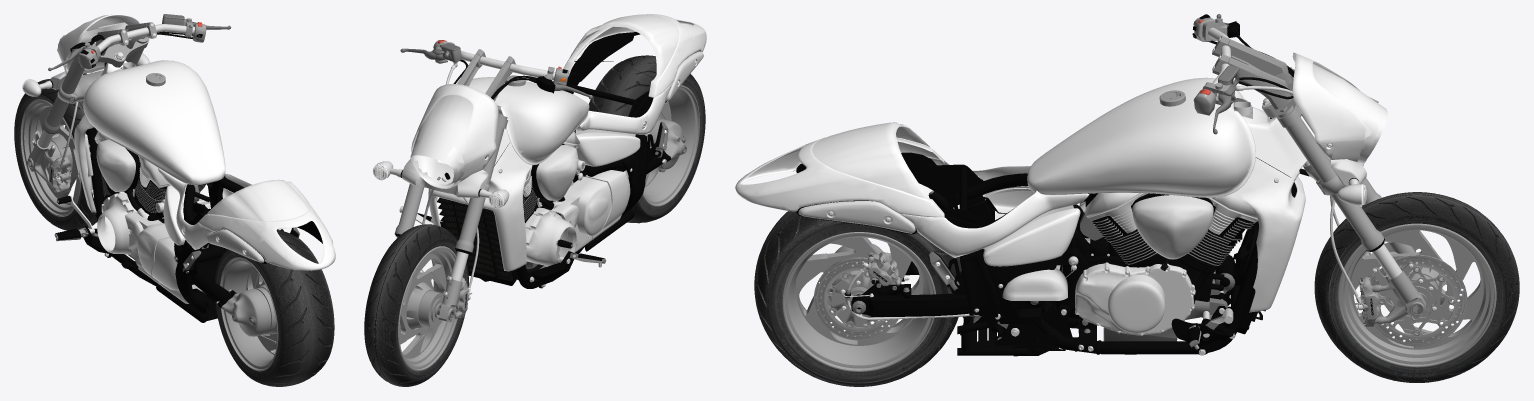
The model's file is stock_M109R.glb.
3 renders of one model, left to right at view 1: azimuth 30°, elevation 25°; view 2: azimuth 150°, elevation 25°; view 3: azimuth 270°, elevation 25°, orthographic. The views are drawn at different scales.
Parts seen in each view (by area): view 1: Tank, TireSidewalls, material.12535, RearRim_ALUM, FrontRim_Alum, TailStripe_Big, FrontTire, material.2715, material.1528, material.1983, material.2615, material.12456 (+25 smaller); view 2: FrontTire, material.050, Tank, FrontRim_Alum, TireSidewalls, Retopo_material.001, RearRim_ALUM, material.1983, material.12535, material.2715, TailStripe_Big, ForkTubes (+25 smaller); view 3: Tank, FrontTire, TireSidewalls, FrontRim_Alum, RearRim_ALUM, material.2526, material.12535, material.050, Retopo_material.001, material.12456, TailStripe_Big, material.1528 (+31 smaller).
Boxes of the visible parts, bbox=[...] form: Tank: bbox=[83, 60, 225, 184]; TireSidewalls: bbox=[215, 230, 334, 386]; material.12535: bbox=[198, 203, 335, 270]; RearRim_ALUM: bbox=[220, 257, 278, 371]; FrontRim_Alum: bbox=[20, 99, 80, 216]; TailStripe_Big: bbox=[207, 179, 309, 220]; FrontTire: bbox=[14, 79, 97, 230]; material.2715: bbox=[97, 192, 137, 254]; material.1528: bbox=[96, 139, 139, 191]; material.1983: bbox=[125, 208, 169, 284]; material.2615: bbox=[221, 288, 270, 336]; material.12456: bbox=[158, 168, 281, 249]; FrontTire: bbox=[364, 224, 468, 386]; material.050: bbox=[410, 84, 498, 186]; Tank: bbox=[469, 77, 589, 164]; FrontRim_Alum: bbox=[398, 246, 457, 371]; TireSidewalls: bbox=[588, 55, 705, 223]; Retopo_material.001: bbox=[428, 142, 532, 271]; RearRim_ALUM: bbox=[642, 85, 699, 206]; material.1983: bbox=[551, 176, 611, 252]; material.12535: bbox=[563, 14, 706, 97]; material.2715: bbox=[525, 207, 576, 266]; TailStripe_Big: bbox=[569, 14, 679, 80]; ForkTubes: bbox=[395, 115, 507, 252]; Tank: bbox=[1027, 77, 1255, 197]; FrontTire: bbox=[1314, 192, 1519, 382]; TireSidewalls: bbox=[754, 211, 961, 386]; FrontRim_Alum: bbox=[1337, 223, 1496, 367]; RearRim_ALUM: bbox=[782, 232, 935, 371]; material.2526: bbox=[1075, 262, 1195, 335]; material.12535: bbox=[735, 137, 944, 217]; material.050: bbox=[1292, 52, 1387, 161]; Retopo_material.001: bbox=[1231, 157, 1305, 312]; material.12456: bbox=[901, 157, 1089, 257]; TailStripe_Big: bbox=[812, 122, 929, 199]; material.1528: bbox=[1132, 193, 1213, 259].
Size of what is drawn, in the model's own units: 0.8588 by 1.13 by 2.4.
Materials: 30 (11 with a texture image).
